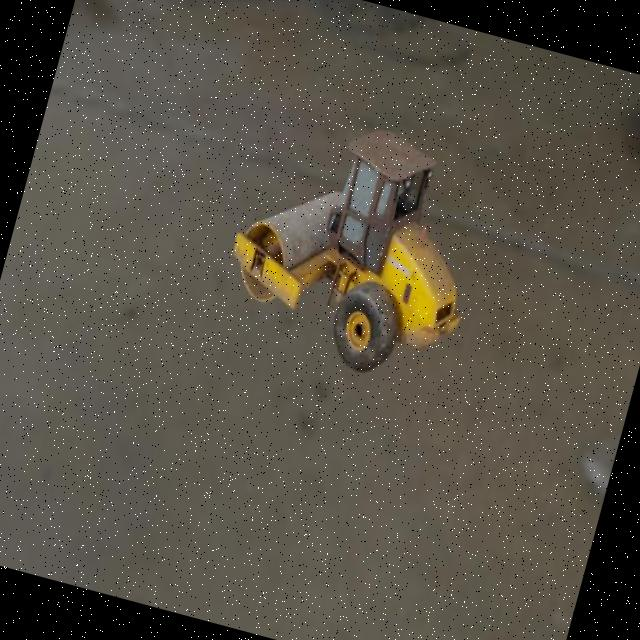Roller: (209, 99, 502, 393)
